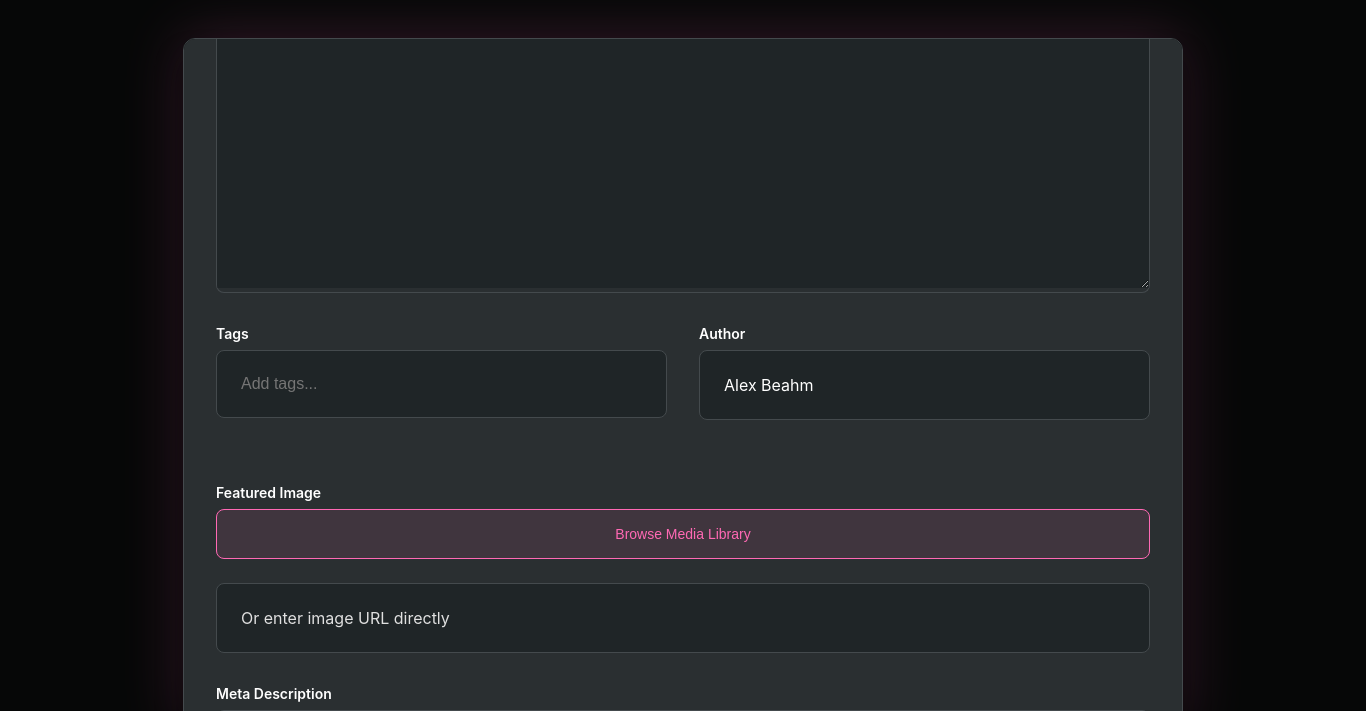
Scenario: ArticleEditor › Tag Management › shows tag suggestions when typing
(page scrolled)
Type "Java" into the field with class "tag-input" at (442, 384), box [216,350,667,418]
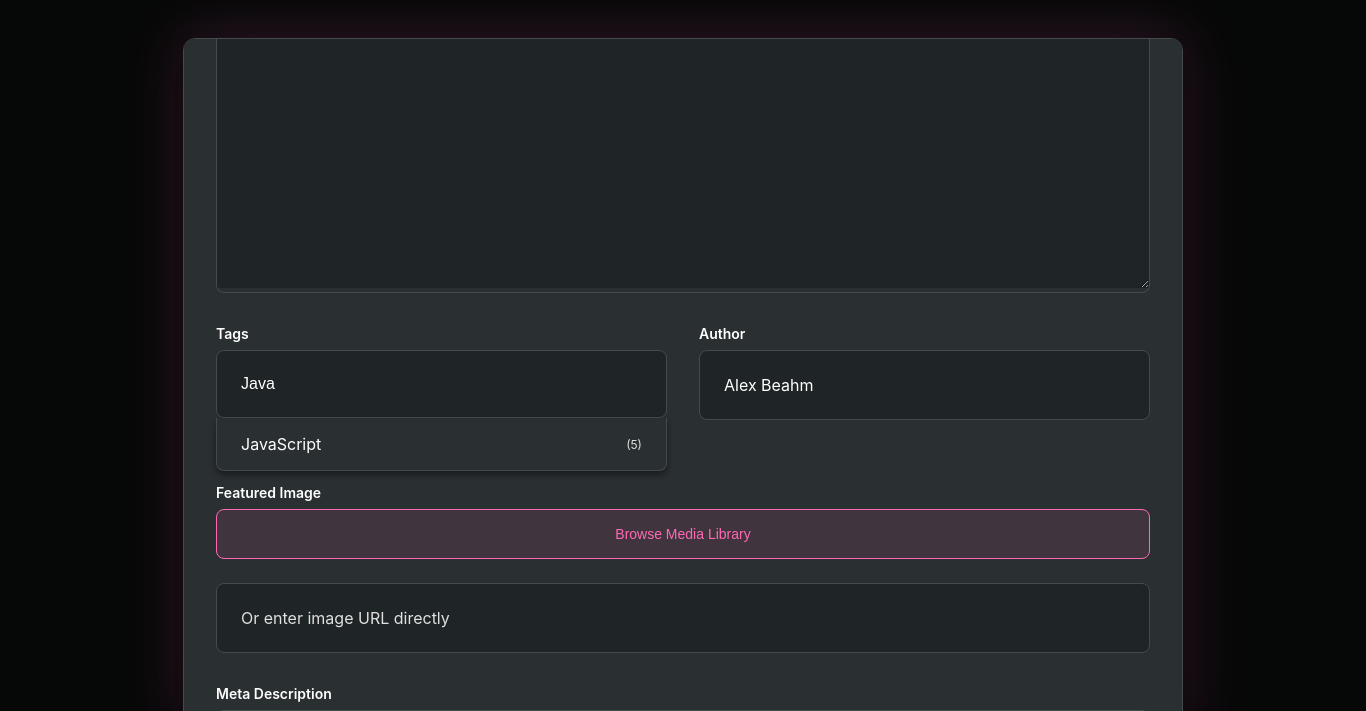
Now the element with class "tag-suggestions" is shown, box [216,418,667,471]
Now the text "JavaScript" is shown, box [241,434,321,454]
